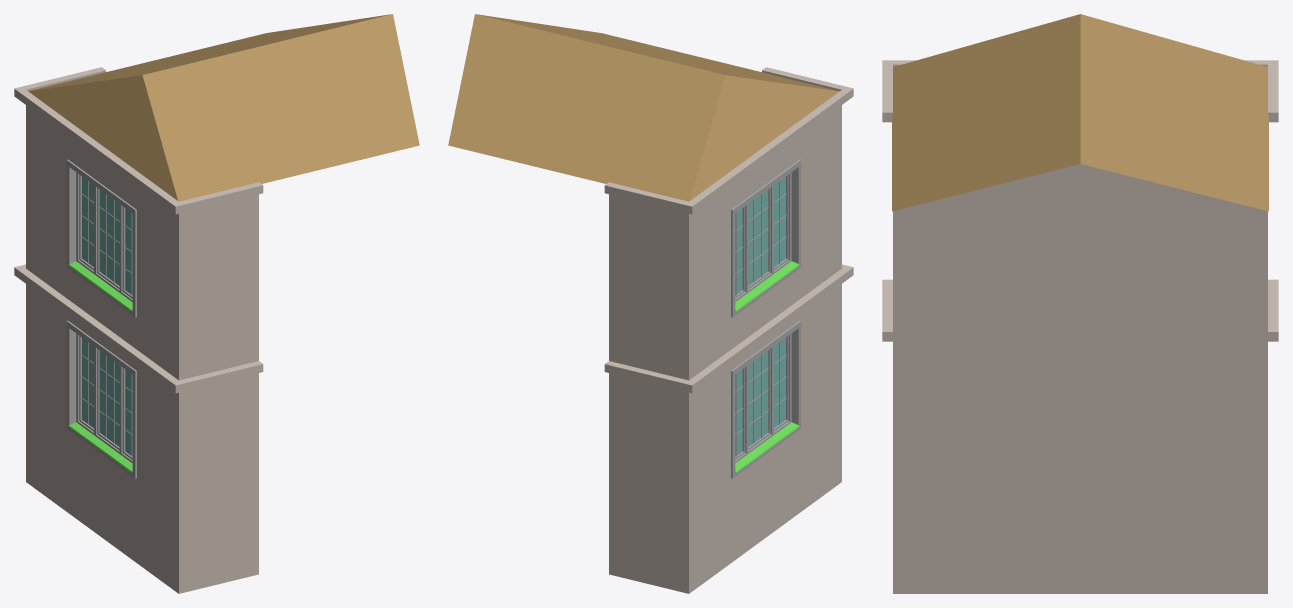
File: House_4_2.FBX
3 renders of one model, left to right at view 1: azimuth 30°, elevation 25°; view 2: azimuth 150°, elevation 25°; view 3: azimuth 270°, elevation 25°, orthographic. The views are drawn at different scales.
Parts seen in each view (by area): view 1: H4-mod-2_LOD0; view 2: H4-mod-2_LOD0; view 3: H4-mod-2_LOD0.
Boxes of the visible parts, box(x1,y1,x2,y2) form: H4-mod-2_LOD0: box(14, 14, 419, 593); H4-mod-2_LOD0: box(448, 14, 853, 593); H4-mod-2_LOD0: box(882, 14, 1278, 593).
Size of what is drawn, in the model's own units: 595 by 865 by 559.
